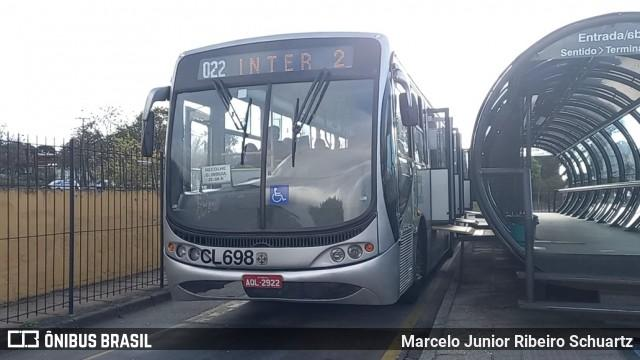INTER2: (232, 45, 349, 77)
